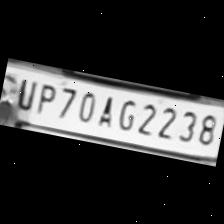0: (72, 86, 100, 124)
2: (153, 101, 180, 140), (133, 97, 159, 136)
3: (173, 104, 199, 144)
7: (52, 82, 79, 120)
8: (194, 108, 220, 147)
A: (94, 90, 118, 128)
G: (113, 93, 140, 132)
P: (32, 78, 60, 116)
U: (10, 72, 40, 110)
